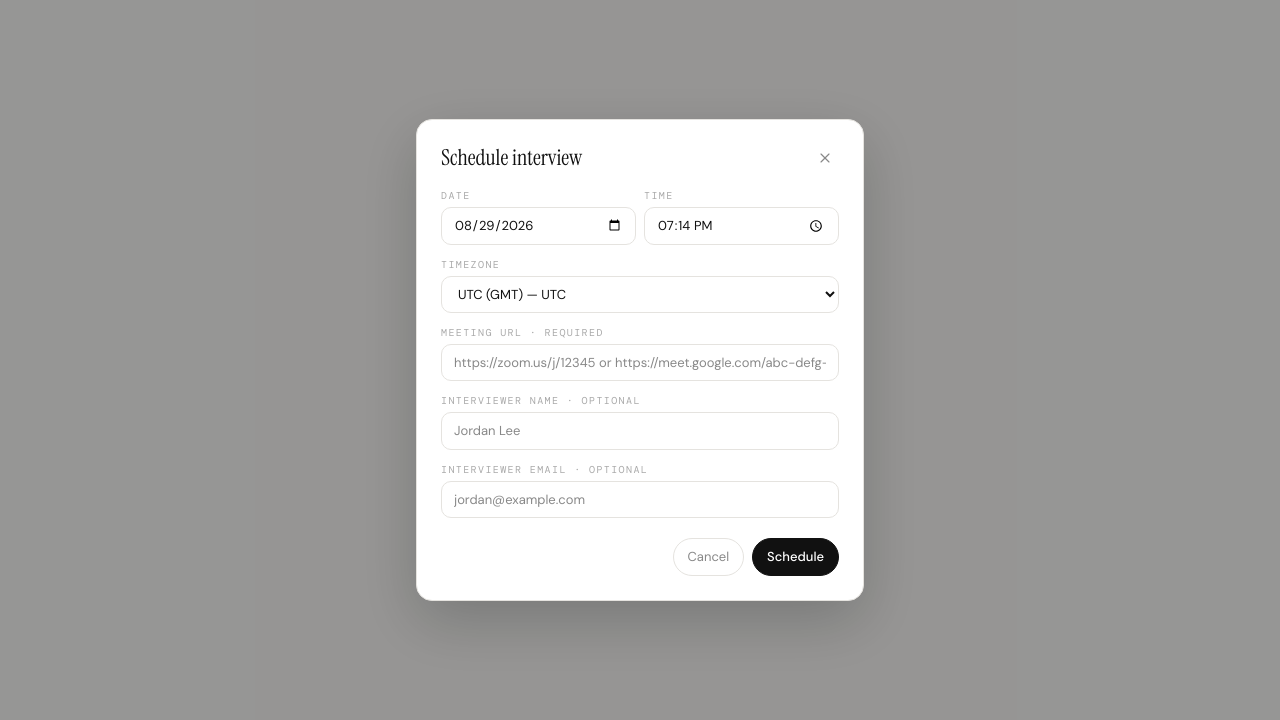
ScheduleModal — validation gates › blocks submit + shows inline error when interviewer email is malformed
This screenshot has width=1280, height=720.
Replace the text in the field labelled "Meeting URL · required" with "https://zoom.us/j/12345": x=640, y=363 441,344 -> 839,381
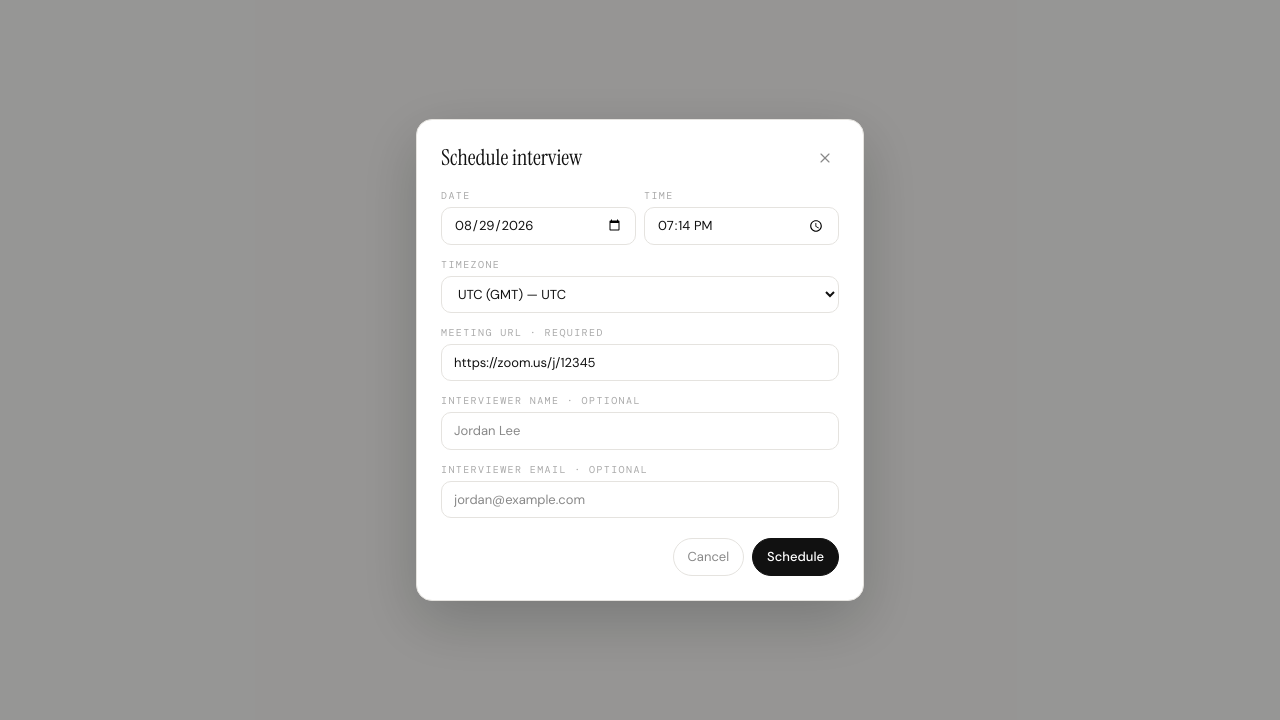
In the field labelled "Interviewer email · optional": x=640, y=500 441,481 -> 839,518, type "definitely-not-an-email"
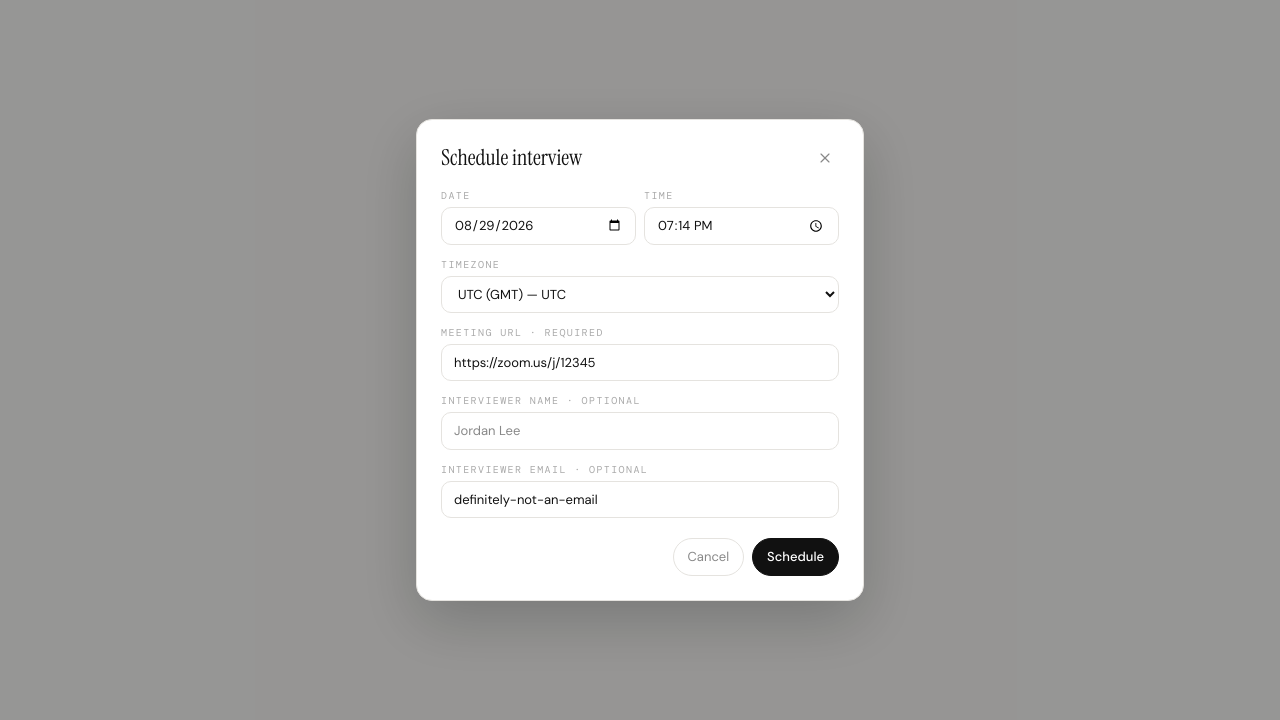
Submit the form, box 441,188 -> 839,576
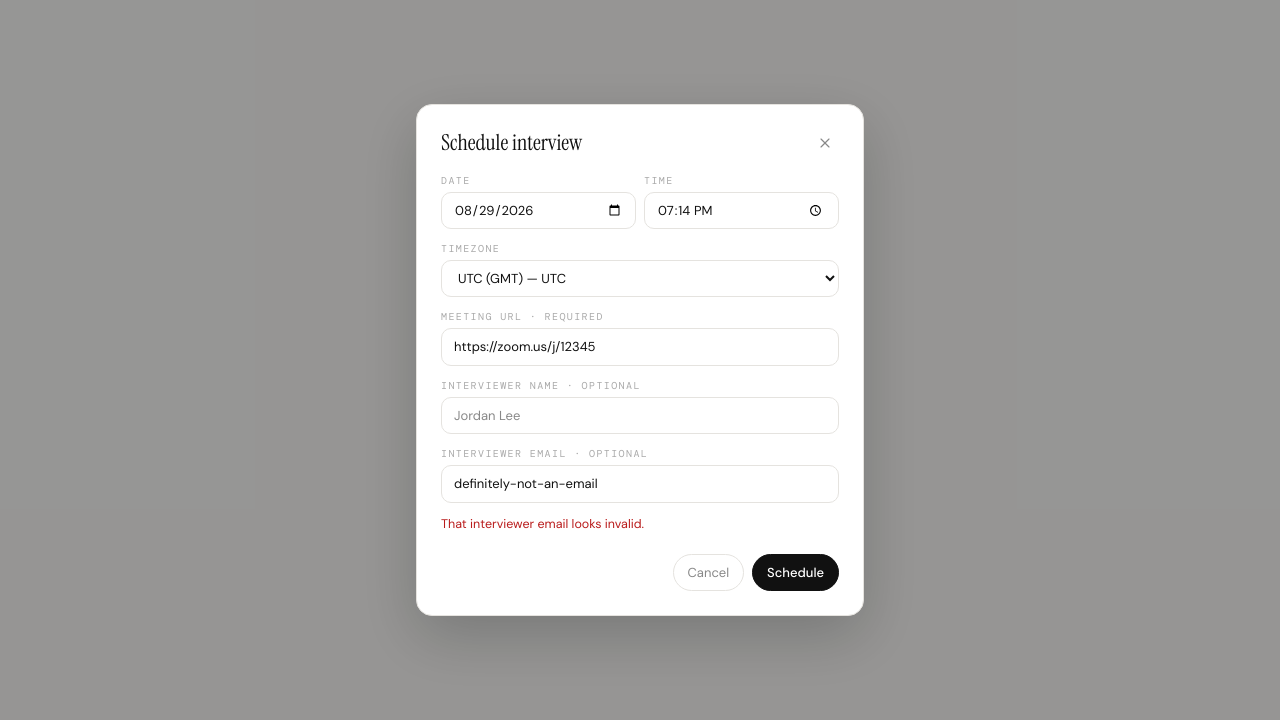
Result: the text "That interviewer email looks invalid." is shown at 441,516 -> 644,532
